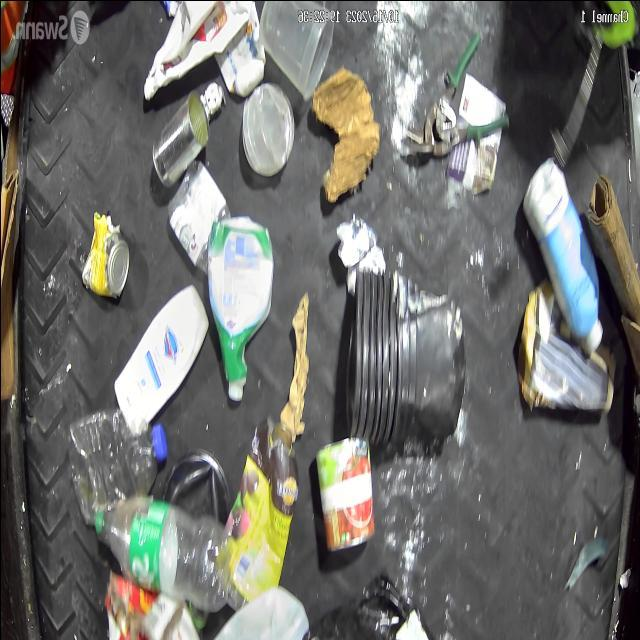can: (313, 429, 375, 554), (150, 88, 210, 190), (80, 207, 130, 300)
milk_jug: (211, 580, 310, 640)
plastic_bottle: (91, 495, 232, 612), (64, 410, 168, 526)
